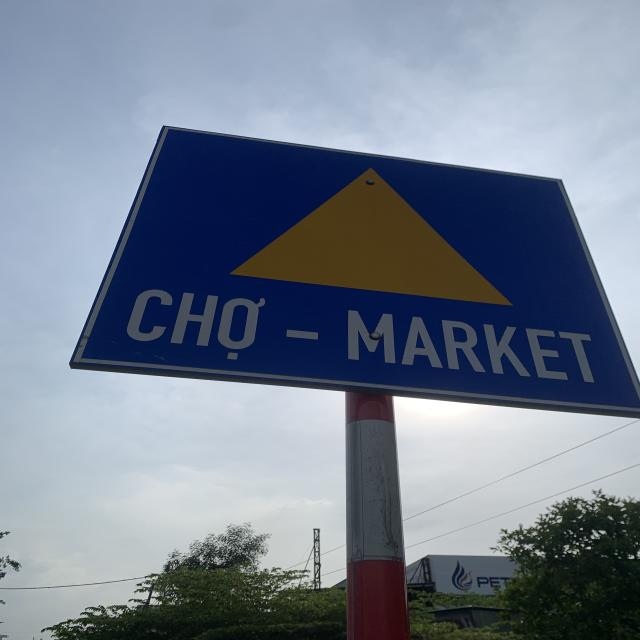Cho_Quay_Xe: (74, 128, 640, 416)
